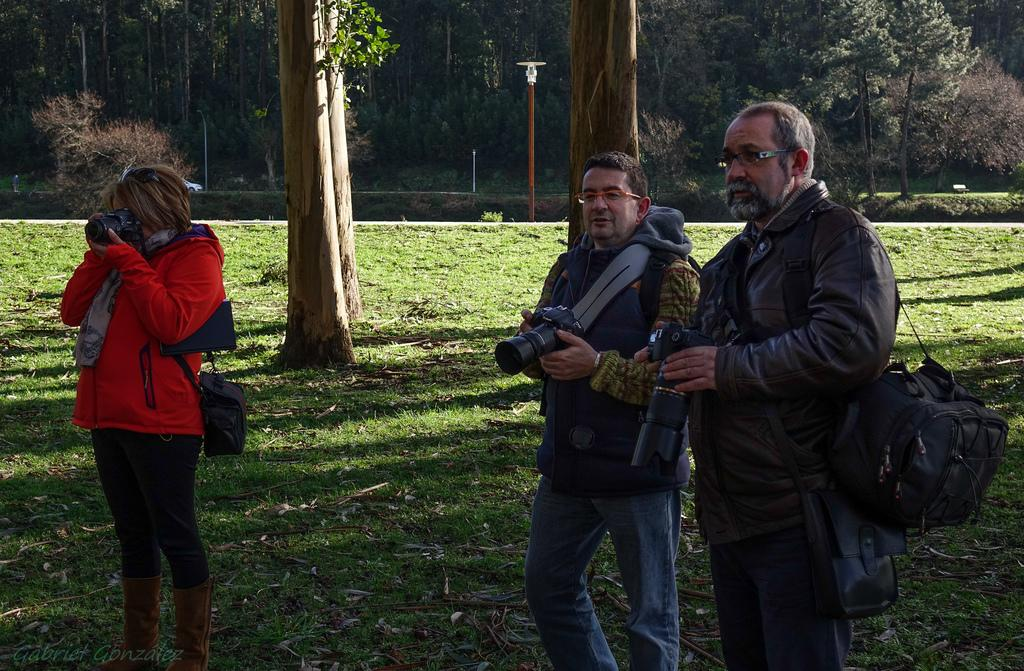Luggage-and-bags: (719, 235, 897, 621), (852, 332, 996, 553), (534, 251, 698, 410), (148, 229, 246, 456)
